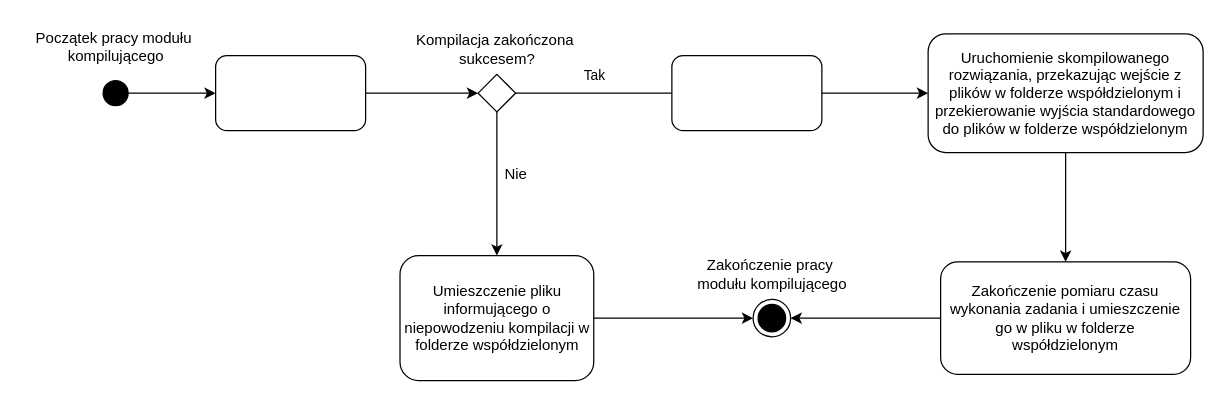
This 1225x403 diagram has some shape labels left out. The shapes that lost their labels are listed below. From the top down, each one's centre as x and y in pixels, then its label:
point 290,92: Kompilacja rozwiązania
point 746,92: Rozpoczęcie pomiaru czasu wykonania rozwiązania
